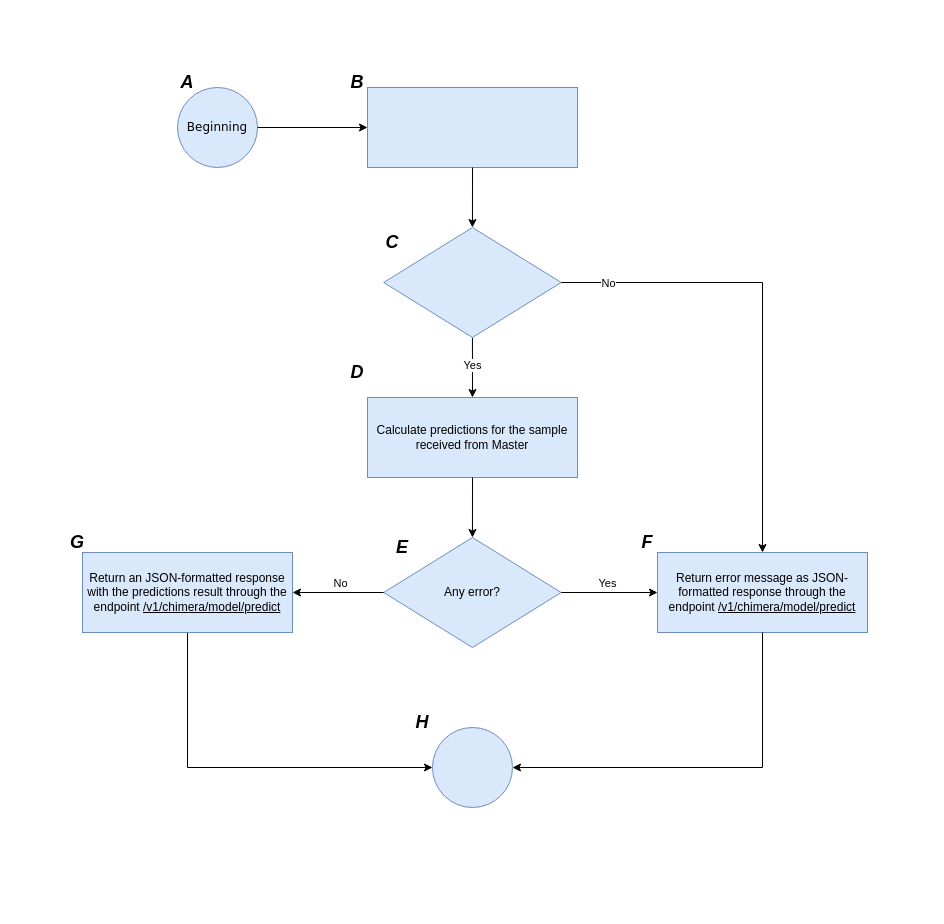
This 944x924 diagram has some shape labels left out. Here are the shapes that lost their labels. From the top down, the centre of each, then its label:
At pixel 472 127: "Receive Master's HTTP request by the endpoint /v1/chimera/model/predict".
At pixel 472 282: "Is Worker alive?".
At pixel 472 767: "End".
